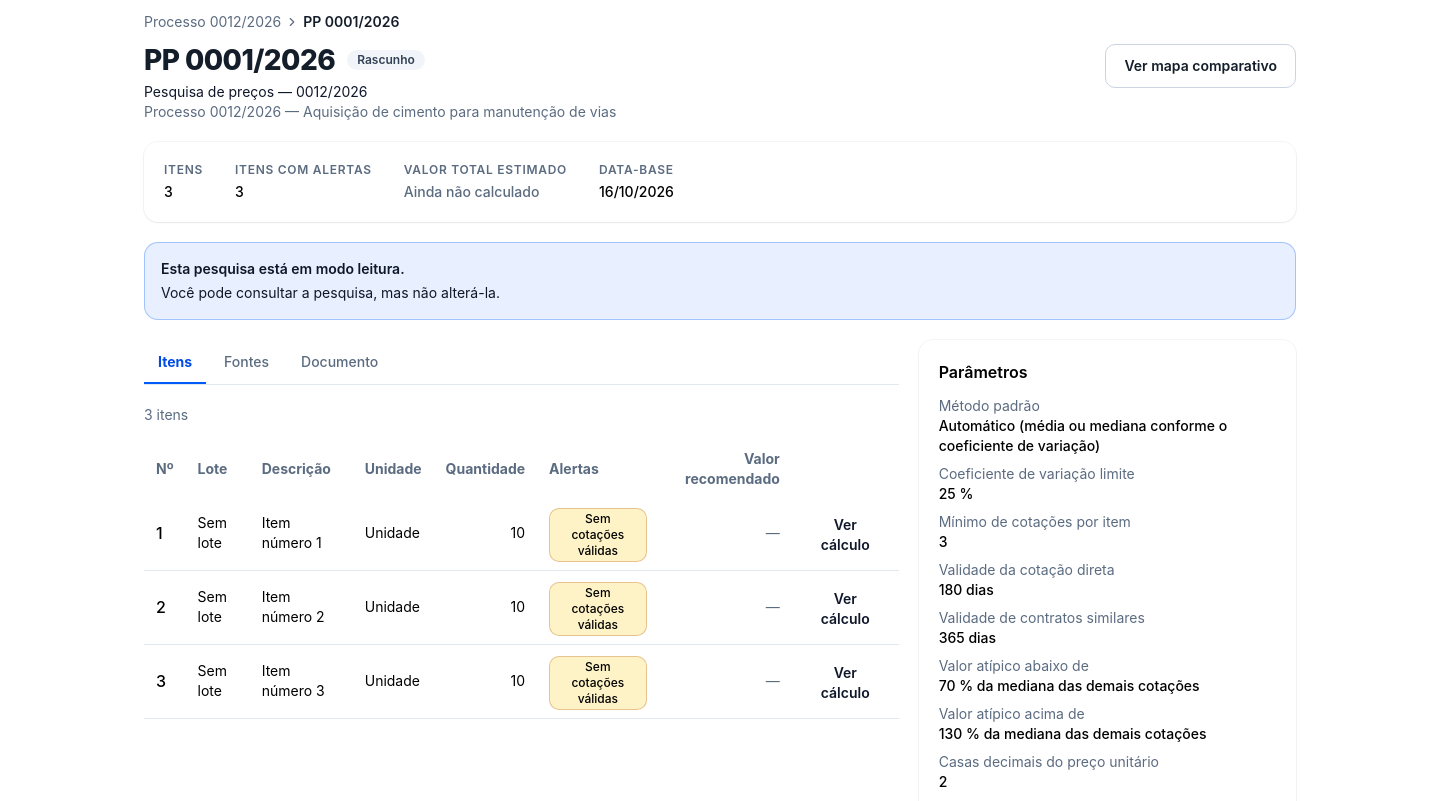
Selos de alertas e destaques (US-030) › FA-05/POL-09: o selo de destaque continua visível, sem percentuais
Click the tab "Fontes". click: (246, 362)
box: [210,340,283,384]
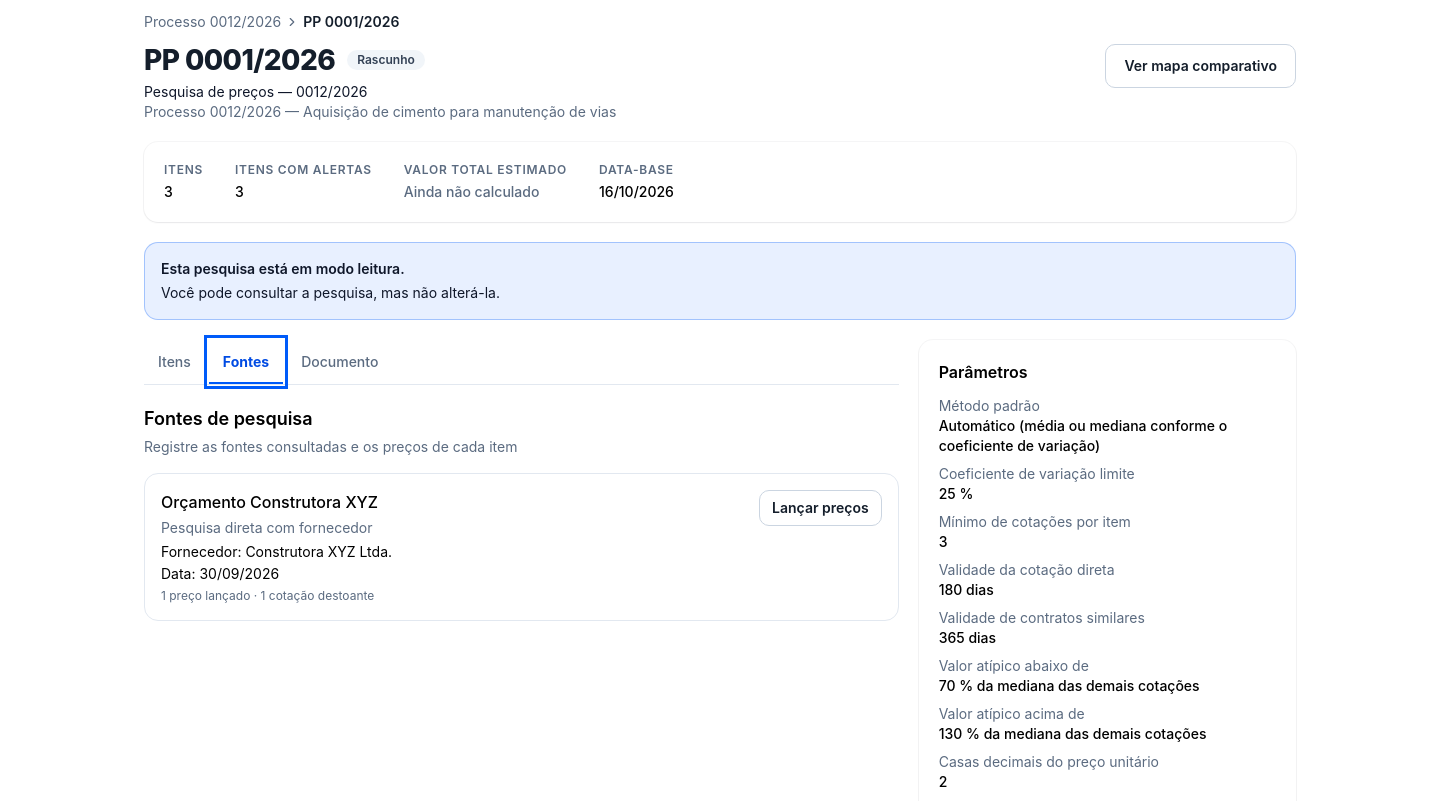
Click the button "Lançar preços". click: (820, 508)
box: [759,490,882,526]
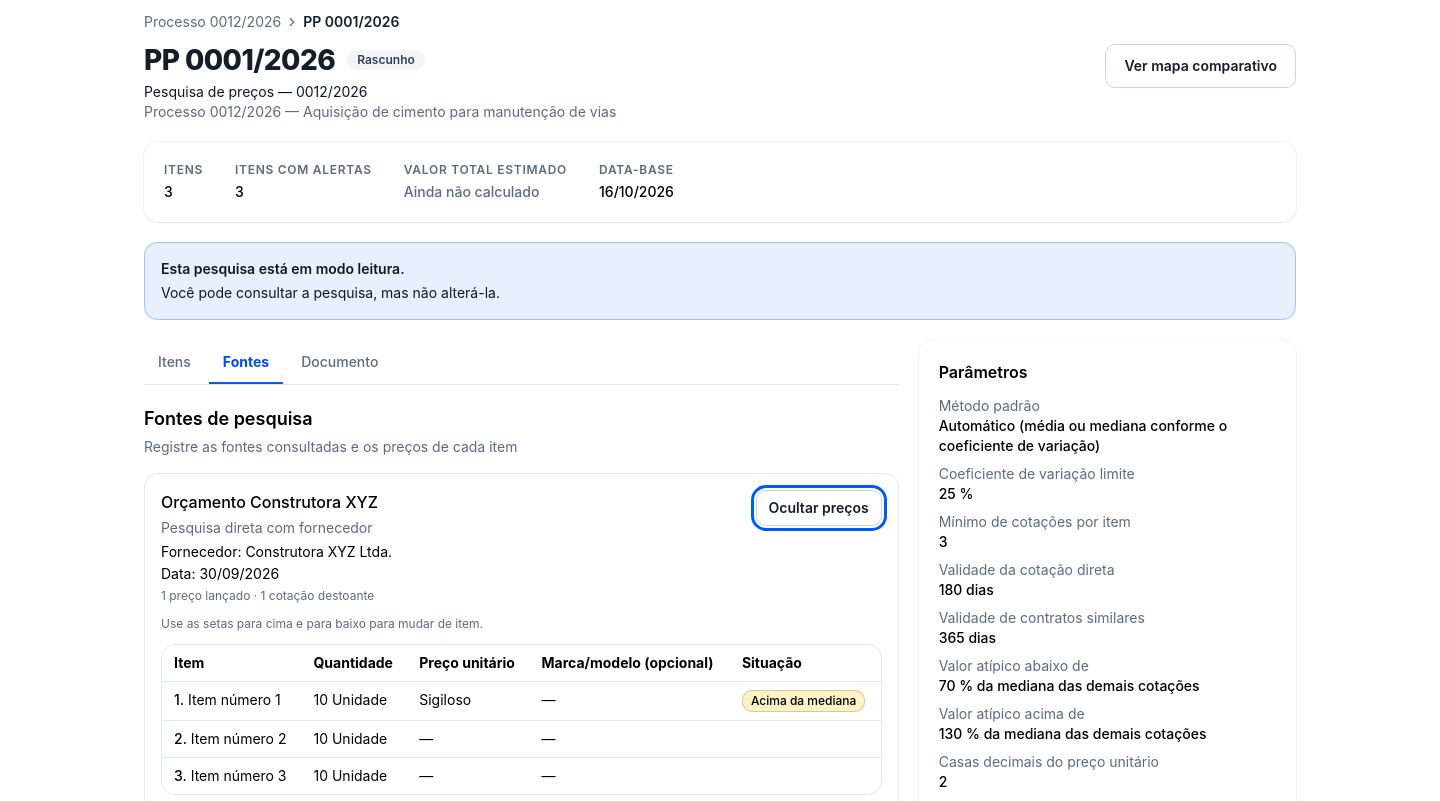
Check: the text "Sigiloso" is shown, box [419,691,471,708]
